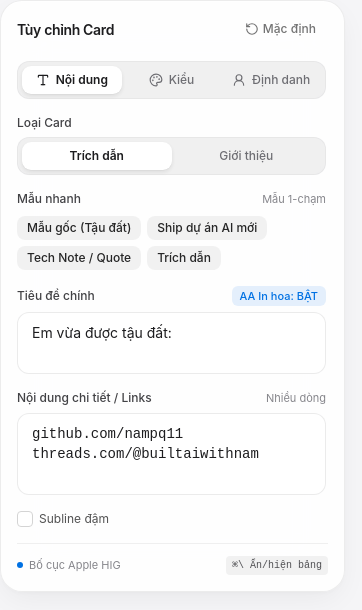
it: Inspector Showcase Screenshots section › replaces Presets and Headline with the Screenshots section in Showcase mode
What coordinates should you click on to do the following:
click the radio button labelled "Giới thiệu"
I would click on:
 (246, 156)
Its box is [219, 148, 273, 163].
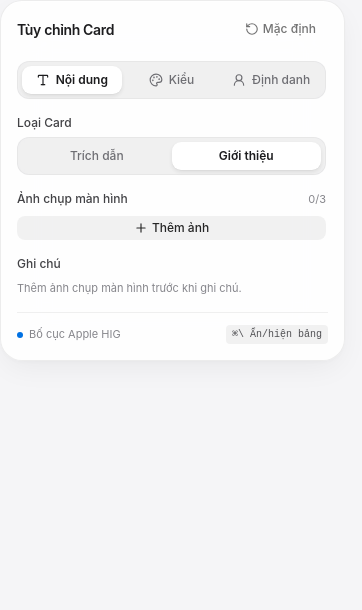
Expected: the text "Ảnh chụp màn hình" is shown, [17, 191, 128, 207]
Expected: the text "Mẫu nhanh" is gone
Expected: the label labelled "Tiêu đề chính" is gone
